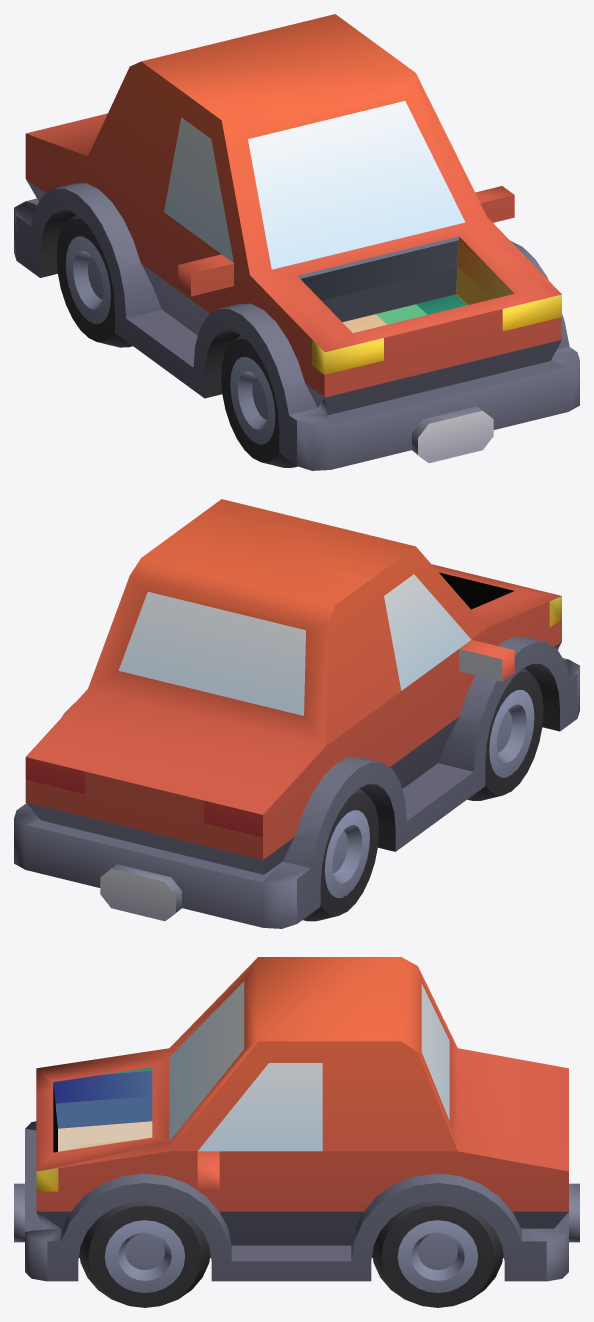
The model's file is auto_sedan.glb.
The picture shows the model from 3 angles, top to bottom: view 1: azimuth 30°, elevation 25°; view 2: azimuth 150°, elevation 25°; view 3: azimuth 270°, elevation 25°; orthographic projection. The views are drawn at different scales.
Parts seen in each view (by area): view 1: body, wheel-front-right, wheel-back-right; view 2: body, wheel-back-right, wheel-front-right; view 3: body, wheel-back-left, wheel-front-left.
Part boxes in pixels (x1,y1,x2,y2): body: (14,14,579,470); wheel-front-right: (221,335,297,467); wheel-back-right: (56,214,132,347); body: (14,499,579,928); wheel-back-right: (303,788,378,921); wheel-front-right: (467,668,543,800); body: (14,957,579,1281); wheel-back-left: (372,1201,503,1307); wheel-front-left: (79,1201,210,1307).
Bounding box in the file's own units: 1.5 × 1.3 × 2.55.
Materials: 1 (1 with a texture image).
